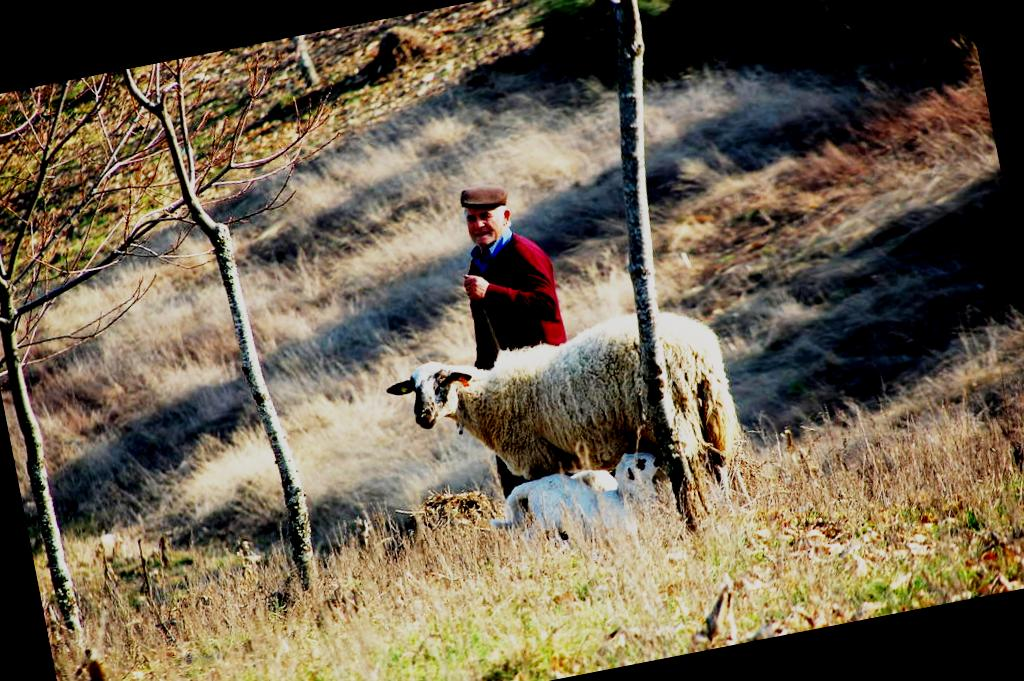Sheep: (376, 300, 756, 574), (478, 440, 683, 580)
